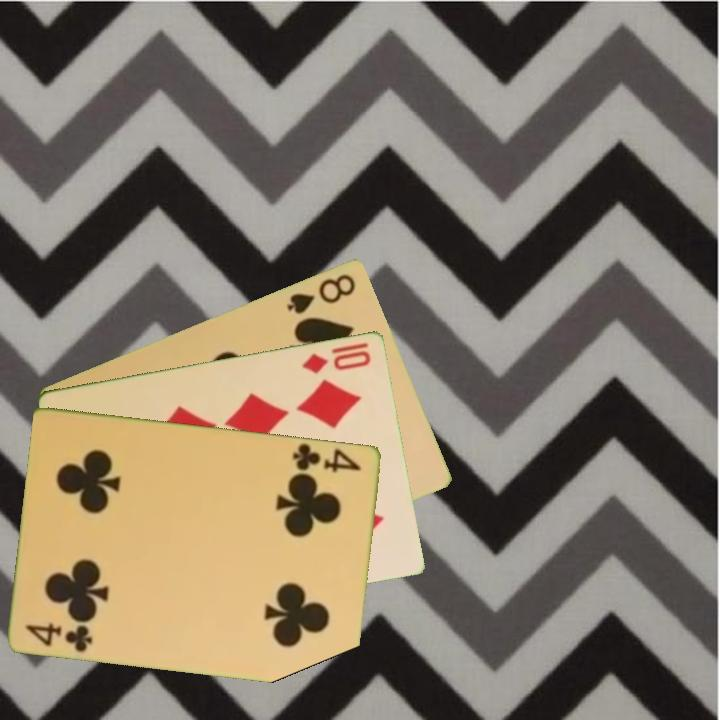10d: (299, 346, 374, 376)
4c: (22, 619, 96, 655), (289, 440, 365, 475)
8s: (283, 270, 359, 317)
